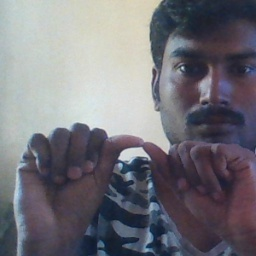A: (36, 122, 248, 235)
